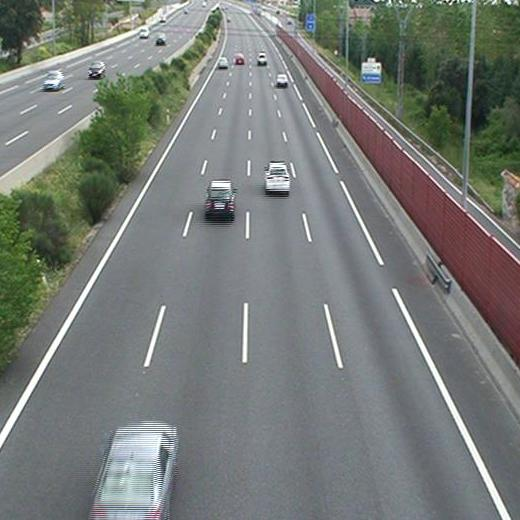car: (89, 424, 177, 520), (206, 180, 234, 216), (266, 163, 290, 190), (276, 73, 288, 86), (217, 58, 227, 69), (235, 55, 245, 65), (257, 53, 266, 63)
